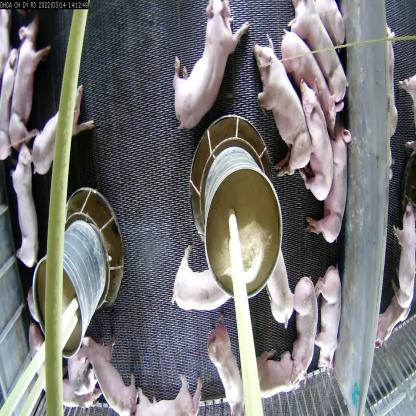Pig: (163, 0, 250, 129), (250, 47, 318, 166), (276, 20, 340, 131), (310, 129, 360, 259), (289, 0, 349, 100), (28, 86, 95, 170), (286, 268, 339, 374), (174, 248, 233, 325), (297, 82, 331, 205), (314, 264, 352, 374), (75, 339, 131, 413), (249, 339, 310, 405), (135, 363, 209, 415), (11, 27, 43, 143), (262, 248, 300, 345), (209, 321, 247, 415), (14, 150, 42, 271), (0, 46, 23, 153), (394, 204, 416, 301)
